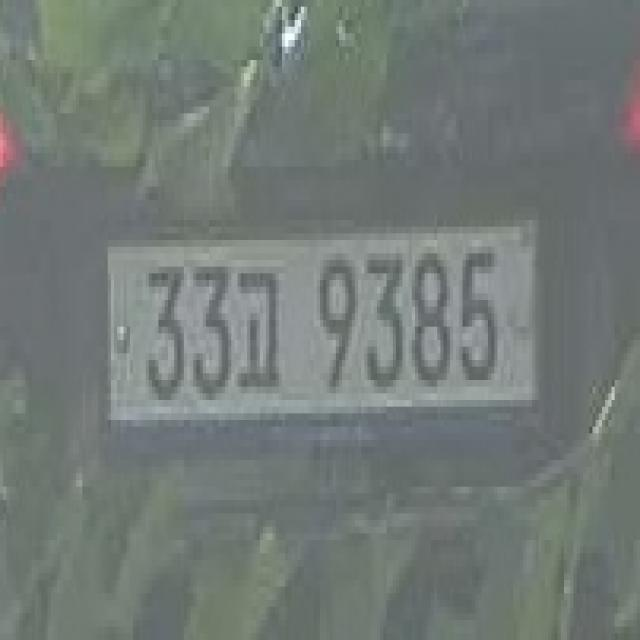3: (190, 253, 235, 407), (361, 247, 406, 393), (146, 260, 187, 400)
5: (457, 240, 498, 380)
8: (409, 240, 453, 393)
9: (314, 254, 355, 394)
go: (231, 260, 279, 393)
license_plate: (101, 227, 538, 433)
